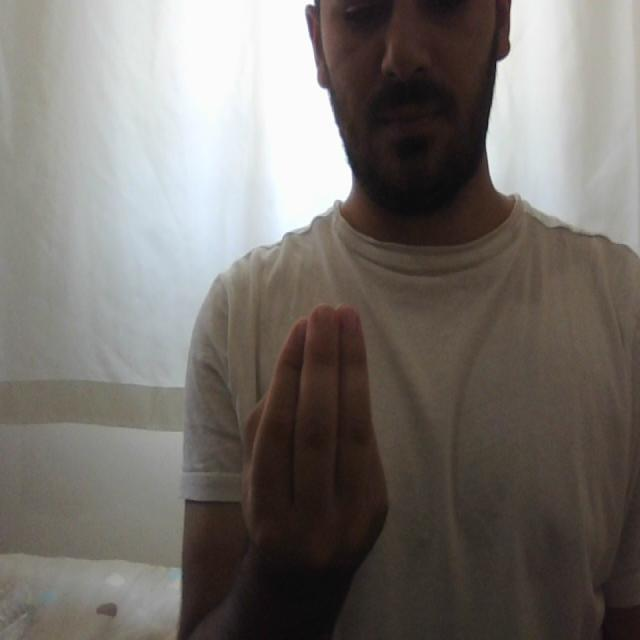iyi: (236, 295, 384, 544)
